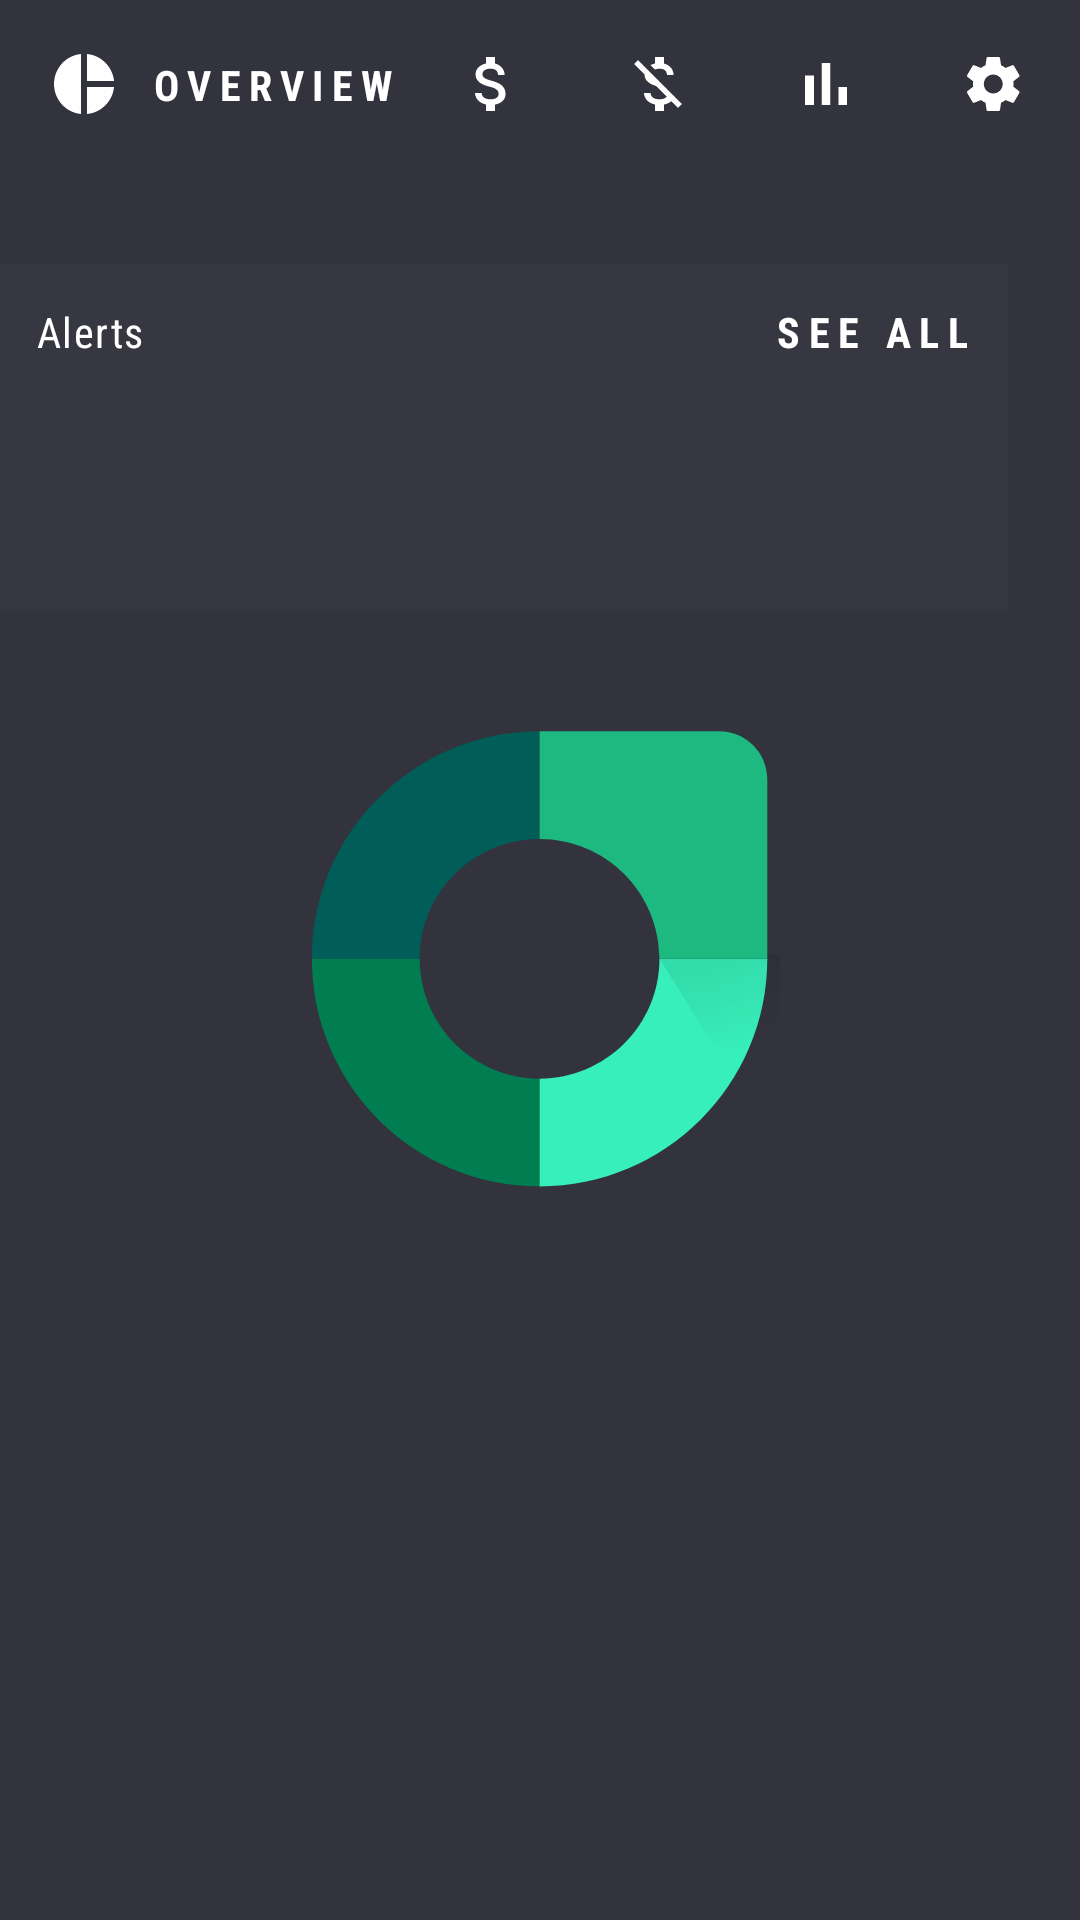

Screen size 1080×1920. Icon name, then its box in pixels as bbox=[x1, y1, x2, y2]:
attach money: bbox=[475, 57, 506, 111]
bar chart: bbox=[805, 63, 847, 105]
money off: bbox=[634, 57, 682, 111]
pie chart: bbox=[54, 54, 114, 114]
settings: bbox=[967, 57, 1020, 111]
